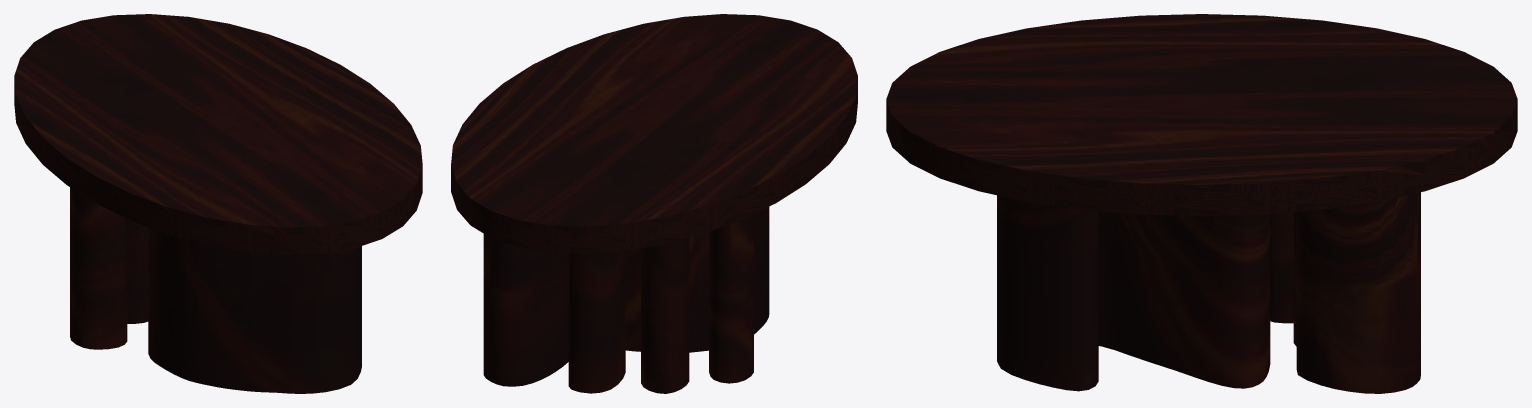
Rendered from table8.glb.
The picture shows the model from 3 angles, left to right: view 1: azimuth 30°, elevation 25°; view 2: azimuth 150°, elevation 25°; view 3: azimuth 270°, elevation 25°; orthographic projection. The views are drawn at different scales.
Parts seen in each view (by area): view 1: tableGnome; view 2: tableGnome; view 3: tableGnome.
Part boxes in pixels (left/top/right/bottom): tableGnome: left=14, top=14, right=422, bottom=393; tableGnome: left=451, top=14, right=857, bottom=393; tableGnome: left=886, top=14, right=1517, bottom=393.
Size of the model in its own units: 1.99 by 1.32 by 3.11.
1 material, 1 textured.
